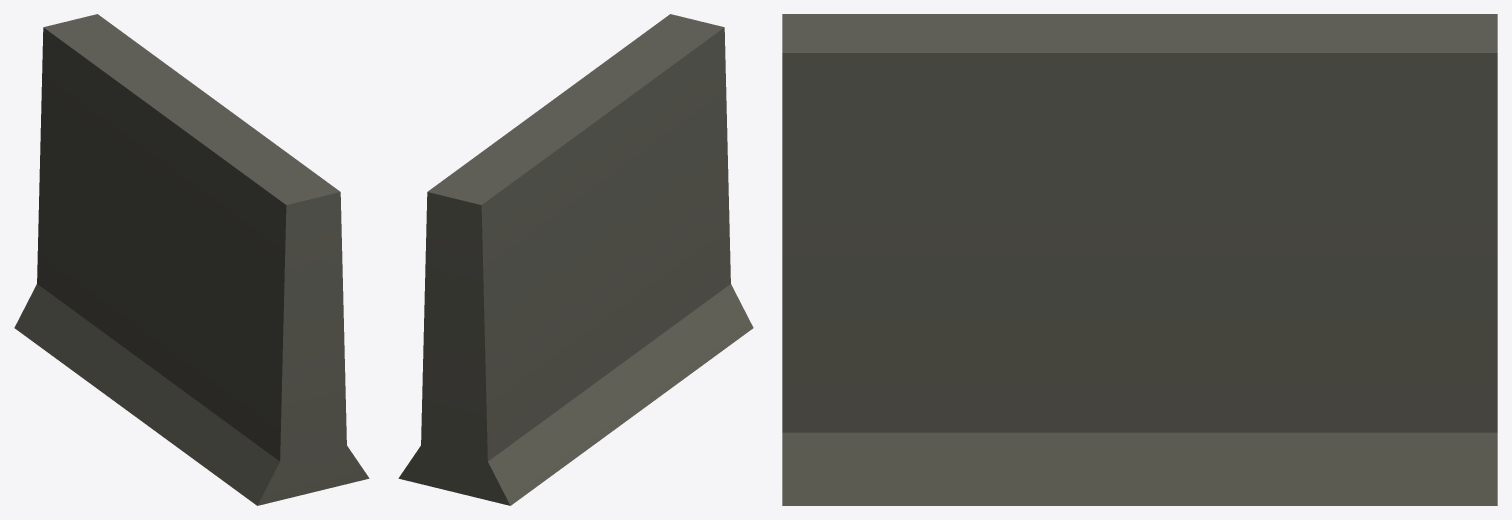
Rendered from RoadPart_02.fbx.
The picture shows the model from 3 angles, left to right: view 1: azimuth 30°, elevation 25°; view 2: azimuth 150°, elevation 25°; view 3: azimuth 270°, elevation 25°; orthographic projection. The views are drawn at different scales.
Visible parts, largest first — view 1: RoadPart_02; view 2: RoadPart_02; view 3: RoadPart_02.
Boxes of the visible parts, bbox=[...] form: RoadPart_02: bbox=[14, 14, 369, 505]; RoadPart_02: bbox=[398, 14, 753, 505]; RoadPart_02: bbox=[782, 14, 1497, 505].
Bounding box in the file's own units: 0.4 × 1 × 1.5.
